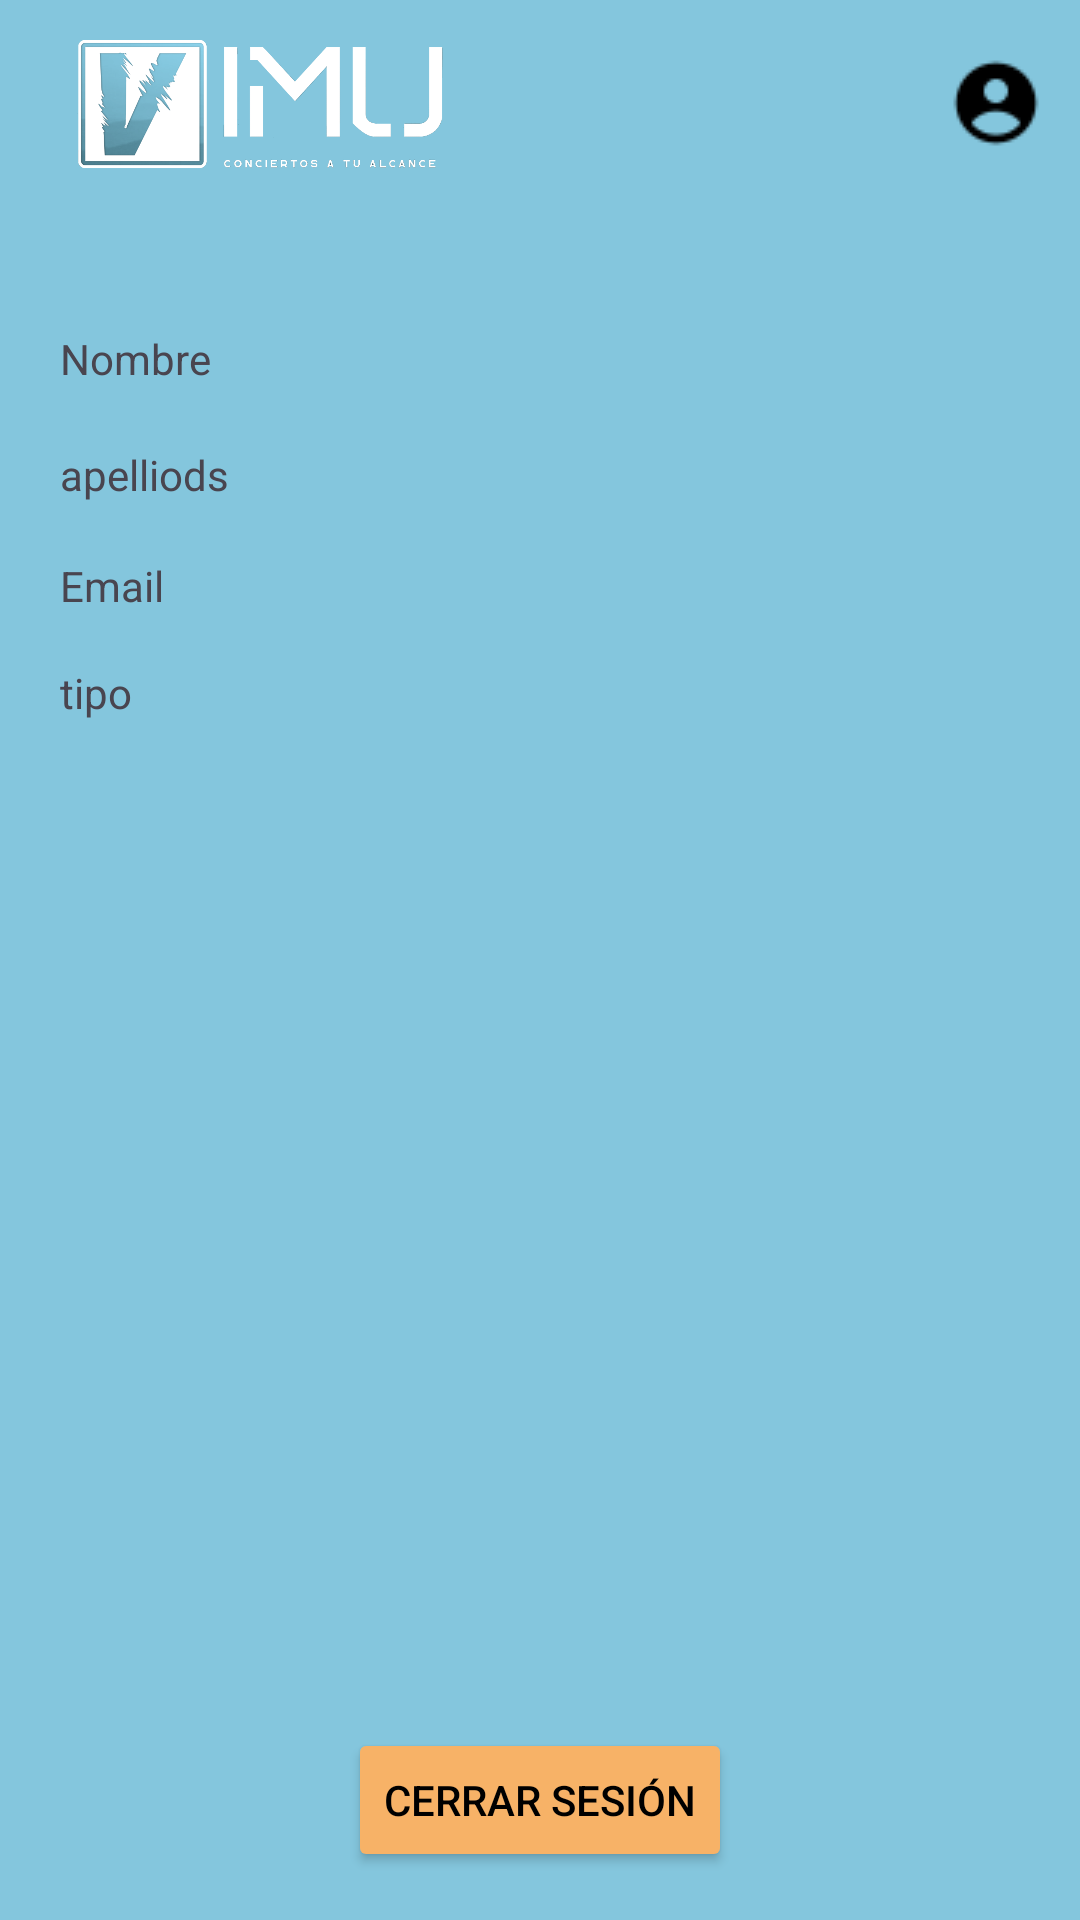

Icons on this 1080w x 1920h Android screen, each with its box as (x1, y1, x2, y2):
Perfil: (954, 61, 1038, 145)
